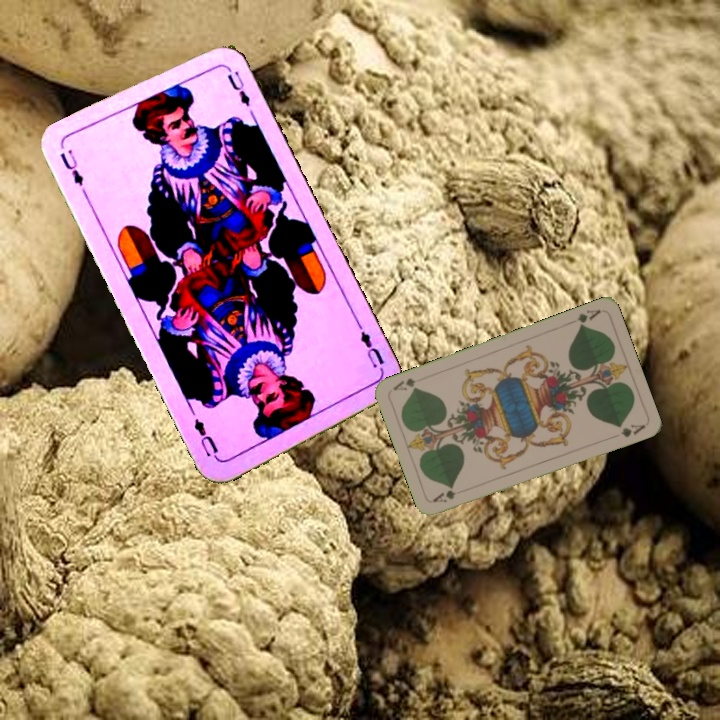EU: (354, 322, 387, 371), (55, 145, 86, 190)
GA: (573, 305, 604, 330), (429, 486, 458, 505)
